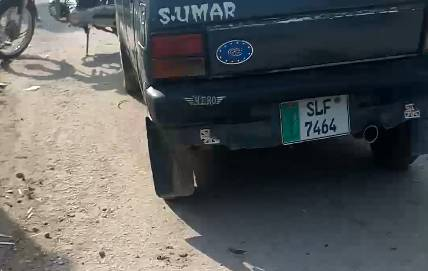number_plate: (280, 97, 356, 143)
